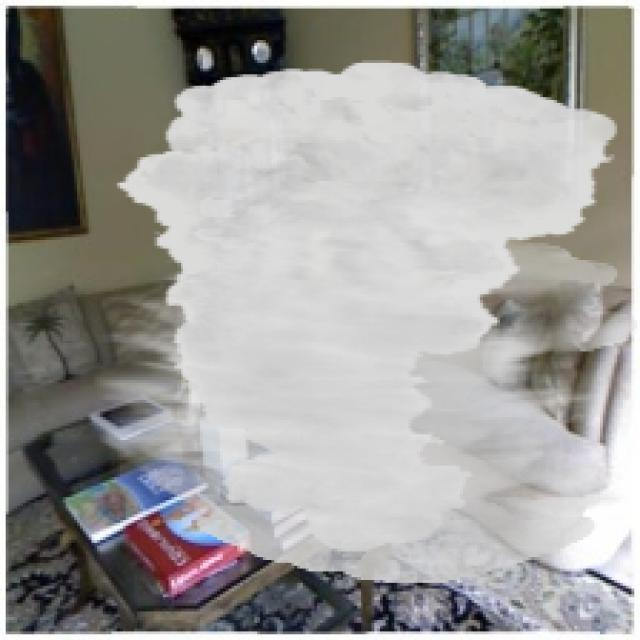Smoke: (94, 60, 637, 583)
